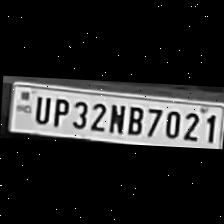0: (160, 106, 180, 140)
1: (200, 108, 219, 144)
2: (179, 108, 200, 142), (86, 98, 106, 132)
3: (67, 96, 87, 130)
7: (142, 104, 161, 138)
B: (122, 102, 143, 136)
N: (105, 100, 124, 134)
P: (48, 94, 68, 128)
U: (29, 92, 49, 124)
